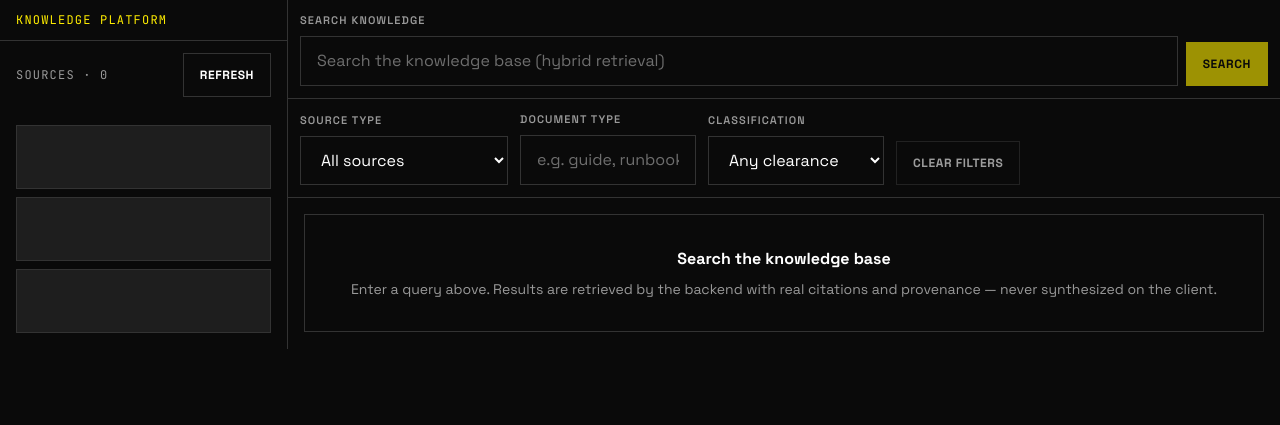
Test case: Knowledge Workspace › shows an error state when the backend search fails
Type "hello" into the field labelled "Knowledge search" at (739, 61), box [300,36,1178,86]
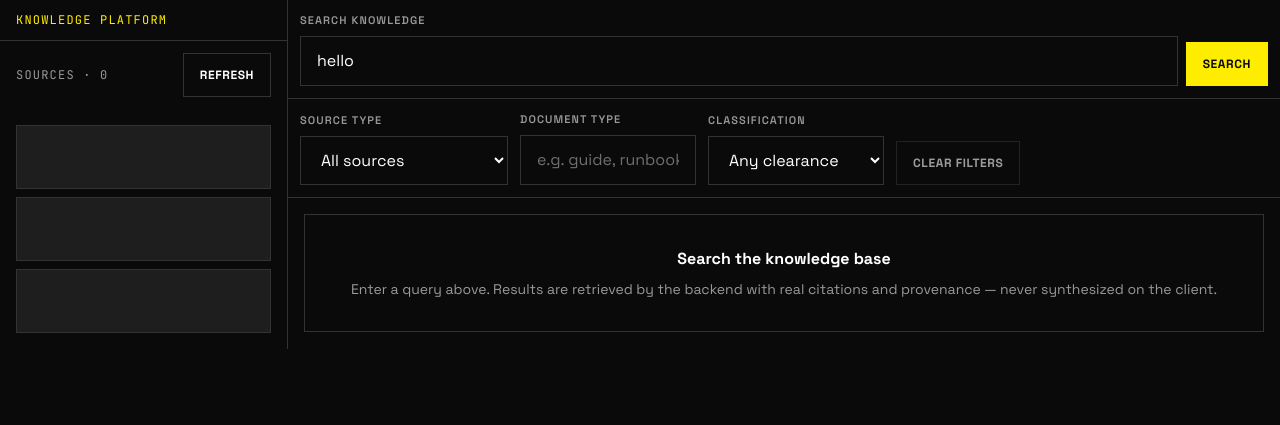
Click the button "Search" at (1227, 64), box [1186,42,1268,86]
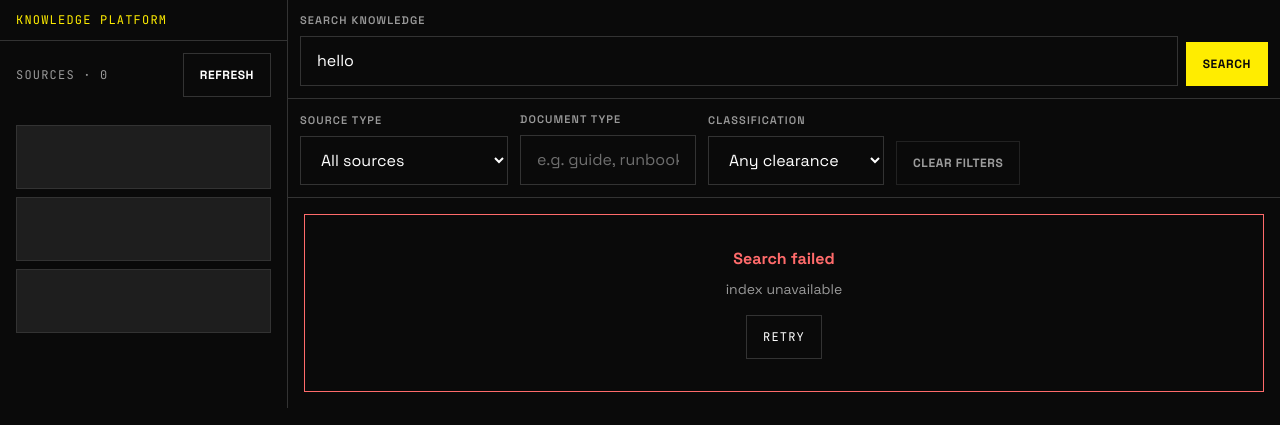
Check: the message "Search failed index unavailable Retry" is shown, box [304,214,1264,392]
Check: the text "Search failed" is shown, box [733,248,835,269]
